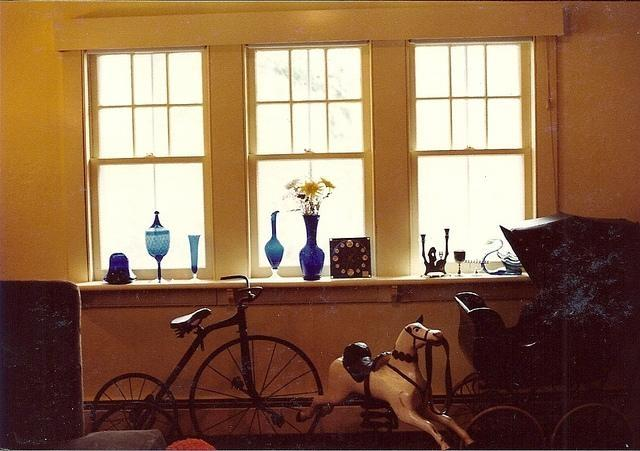bicycle: (99, 278, 325, 446)
